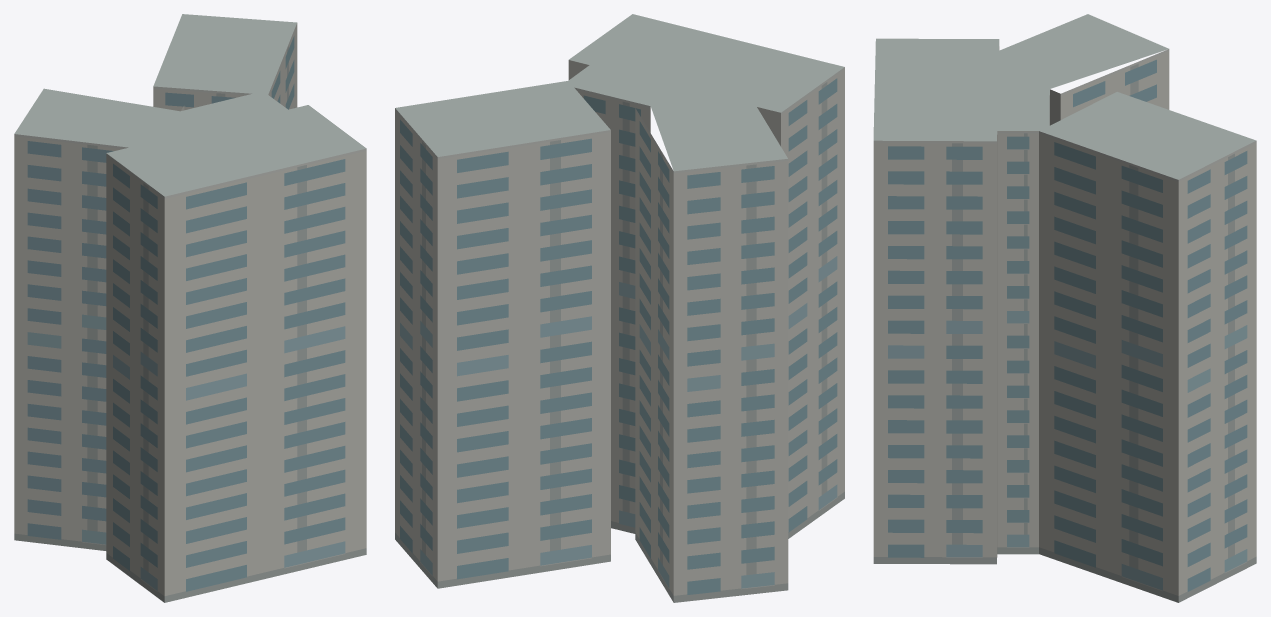
Rendered from residential-6a0b368b-b32b-495a-80e9-6294f02788a6.glb.
3 renders of one model, left to right at view 1: azimuth 30°, elevation 25°; view 2: azimuth 150°, elevation 25°; view 3: azimuth 270°, elevation 25°, orthographic. The views are drawn at different scales.
Parts seen in each view (by area): view 1: residential-6a0b368b-b32b-495a-80e9-6294f02788a6.tmp; view 2: residential-6a0b368b-b32b-495a-80e9-6294f02788a6.tmp; view 3: residential-6a0b368b-b32b-495a-80e9-6294f02788a6.tmp.
Part boxes in pixels (bbox=[...]): residential-6a0b368b-b32b-495a-80e9-6294f02788a6.tmp: bbox=[14, 14, 366, 602]; residential-6a0b368b-b32b-495a-80e9-6294f02788a6.tmp: bbox=[395, 14, 844, 602]; residential-6a0b368b-b32b-495a-80e9-6294f02788a6.tmp: bbox=[873, 14, 1256, 602].
Bounding box in the file's own units: 40.39 × 48 × 39.4.
